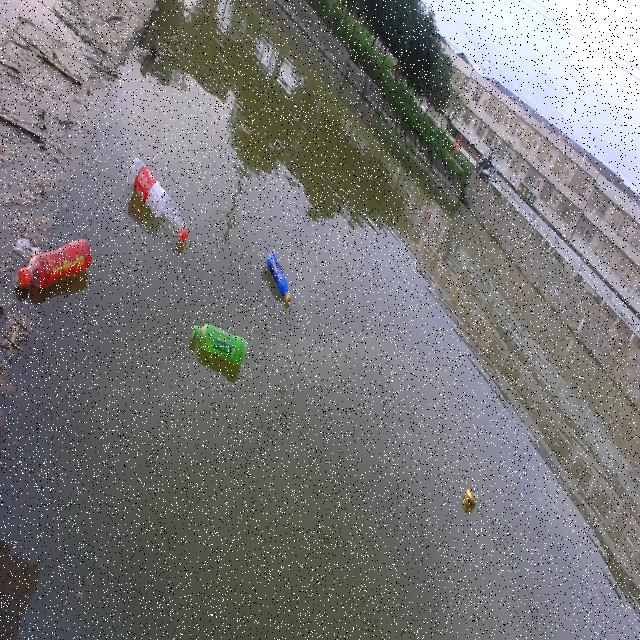Bottle: (126, 153, 189, 244), (16, 233, 94, 288), (190, 316, 248, 367), (264, 246, 294, 306)
Can: (456, 483, 479, 517)
